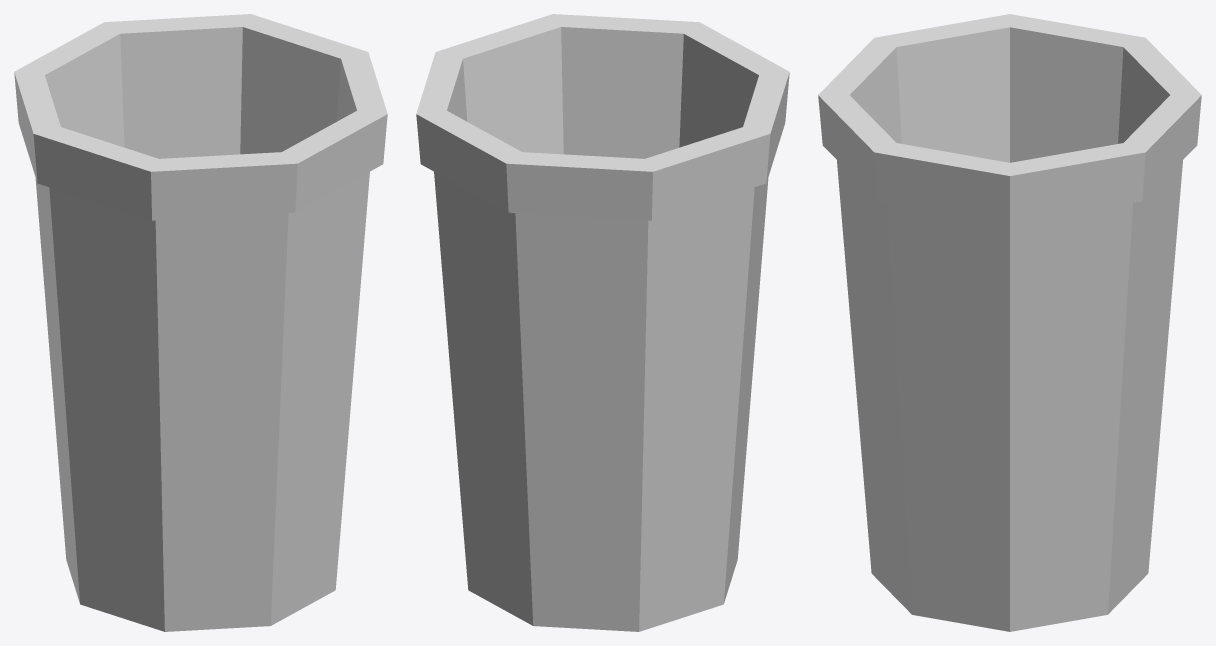
File: ToothbrushCup_01.fbx
3 views of the same model, side by side, from view 1: azimuth 30°, elevation 25°; view 2: azimuth 150°, elevation 25°; view 3: azimuth 270°, elevation 25° (orthographic).
Visible parts, largest first — view 1: ToothbrushCup_01; view 2: ToothbrushCup_01; view 3: ToothbrushCup_01.
Boxes of the visible parts, left/top/right/bottom form: ToothbrushCup_01: left=14, top=14, right=387, bottom=631; ToothbrushCup_01: left=416, top=14, right=789, bottom=631; ToothbrushCup_01: left=818, top=14, right=1201, bottom=631.
Bounding box in the file's own units: 11.47 × 15.78 × 11.47.
